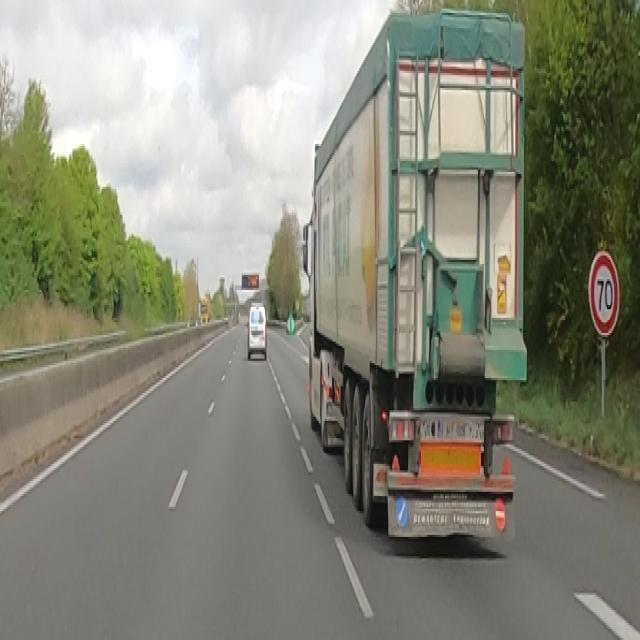speed_70: (590, 252, 619, 334)
